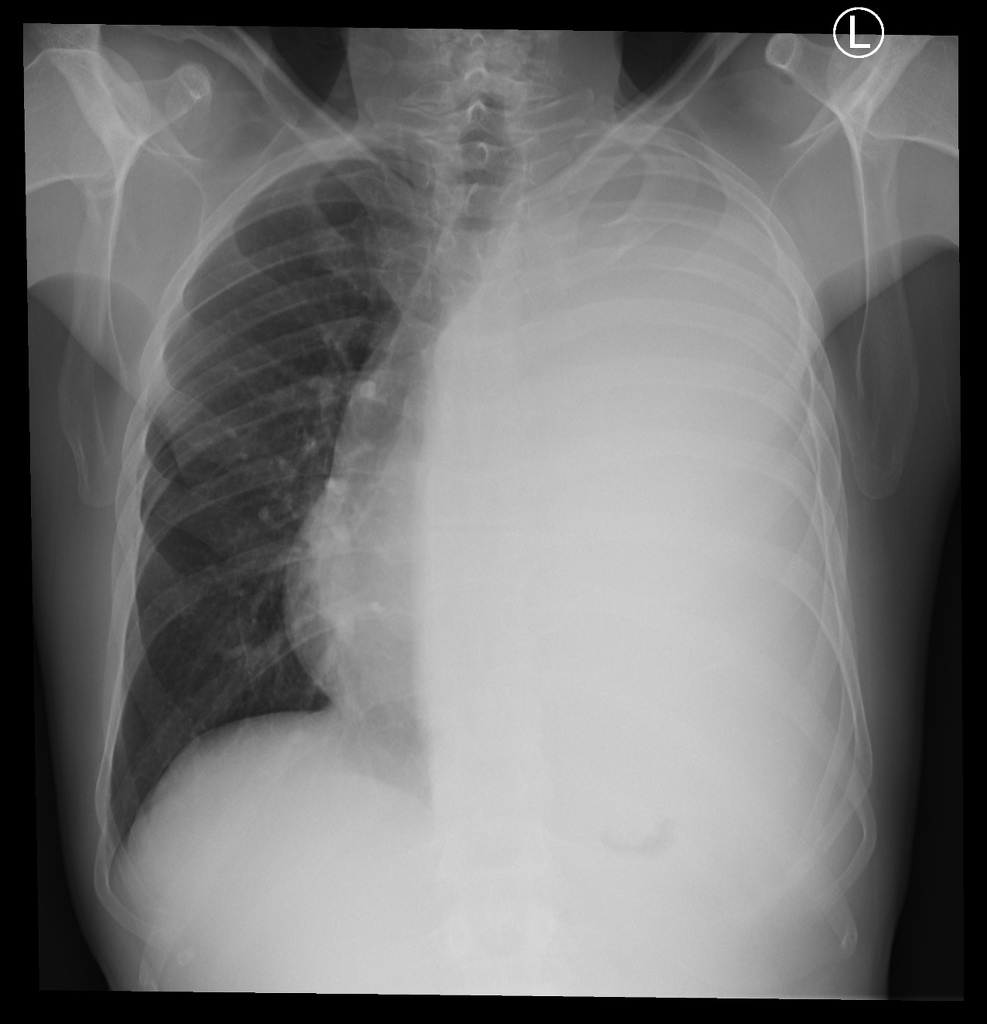cancer: (485, 188, 841, 868)
